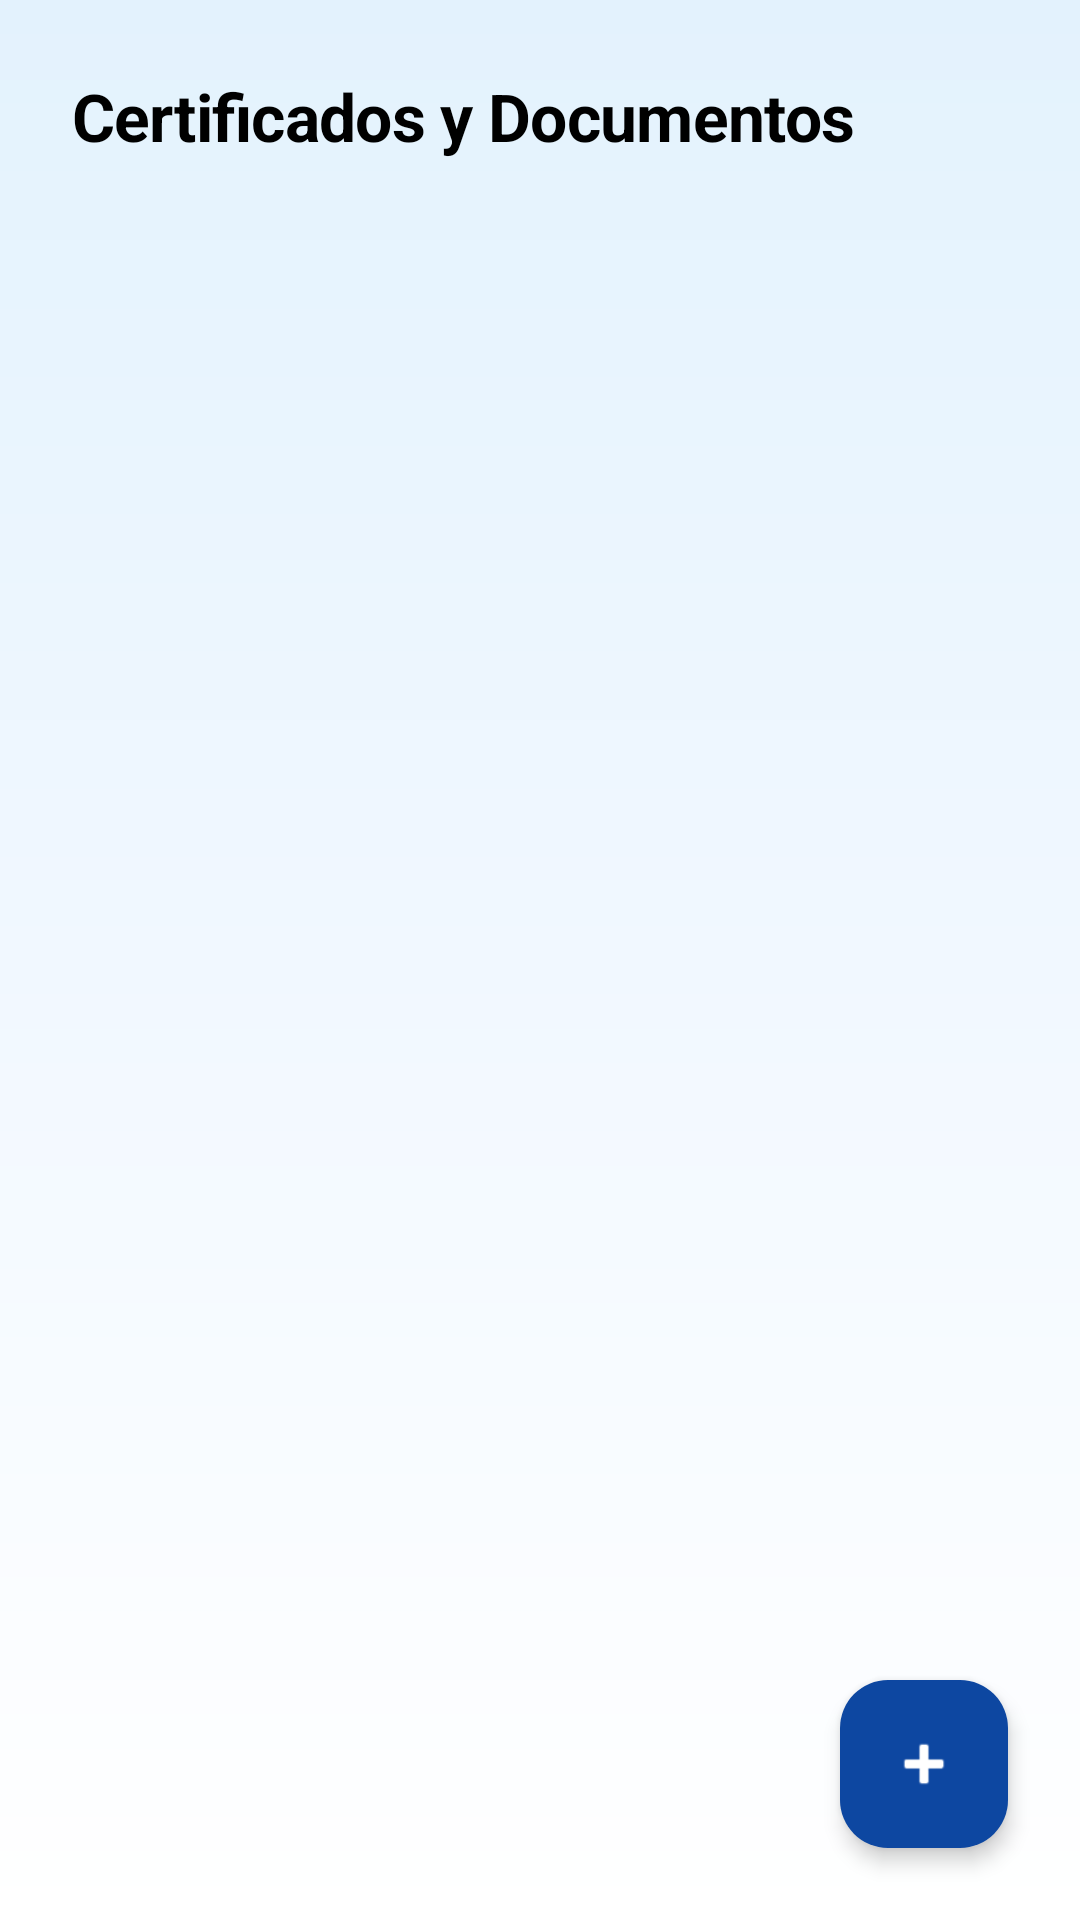

Locate icon controls on the screen. Image size 1080 x 1920, boxes as (x1, y1, x2, y2).
Agregar Certificado: (840, 1680, 1008, 1848)
